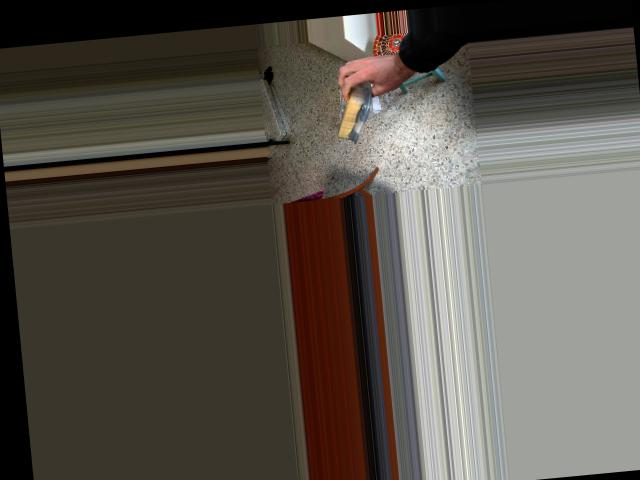cheese: (326, 67, 384, 149)
